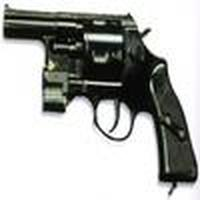gun: (2, 6, 200, 171)
